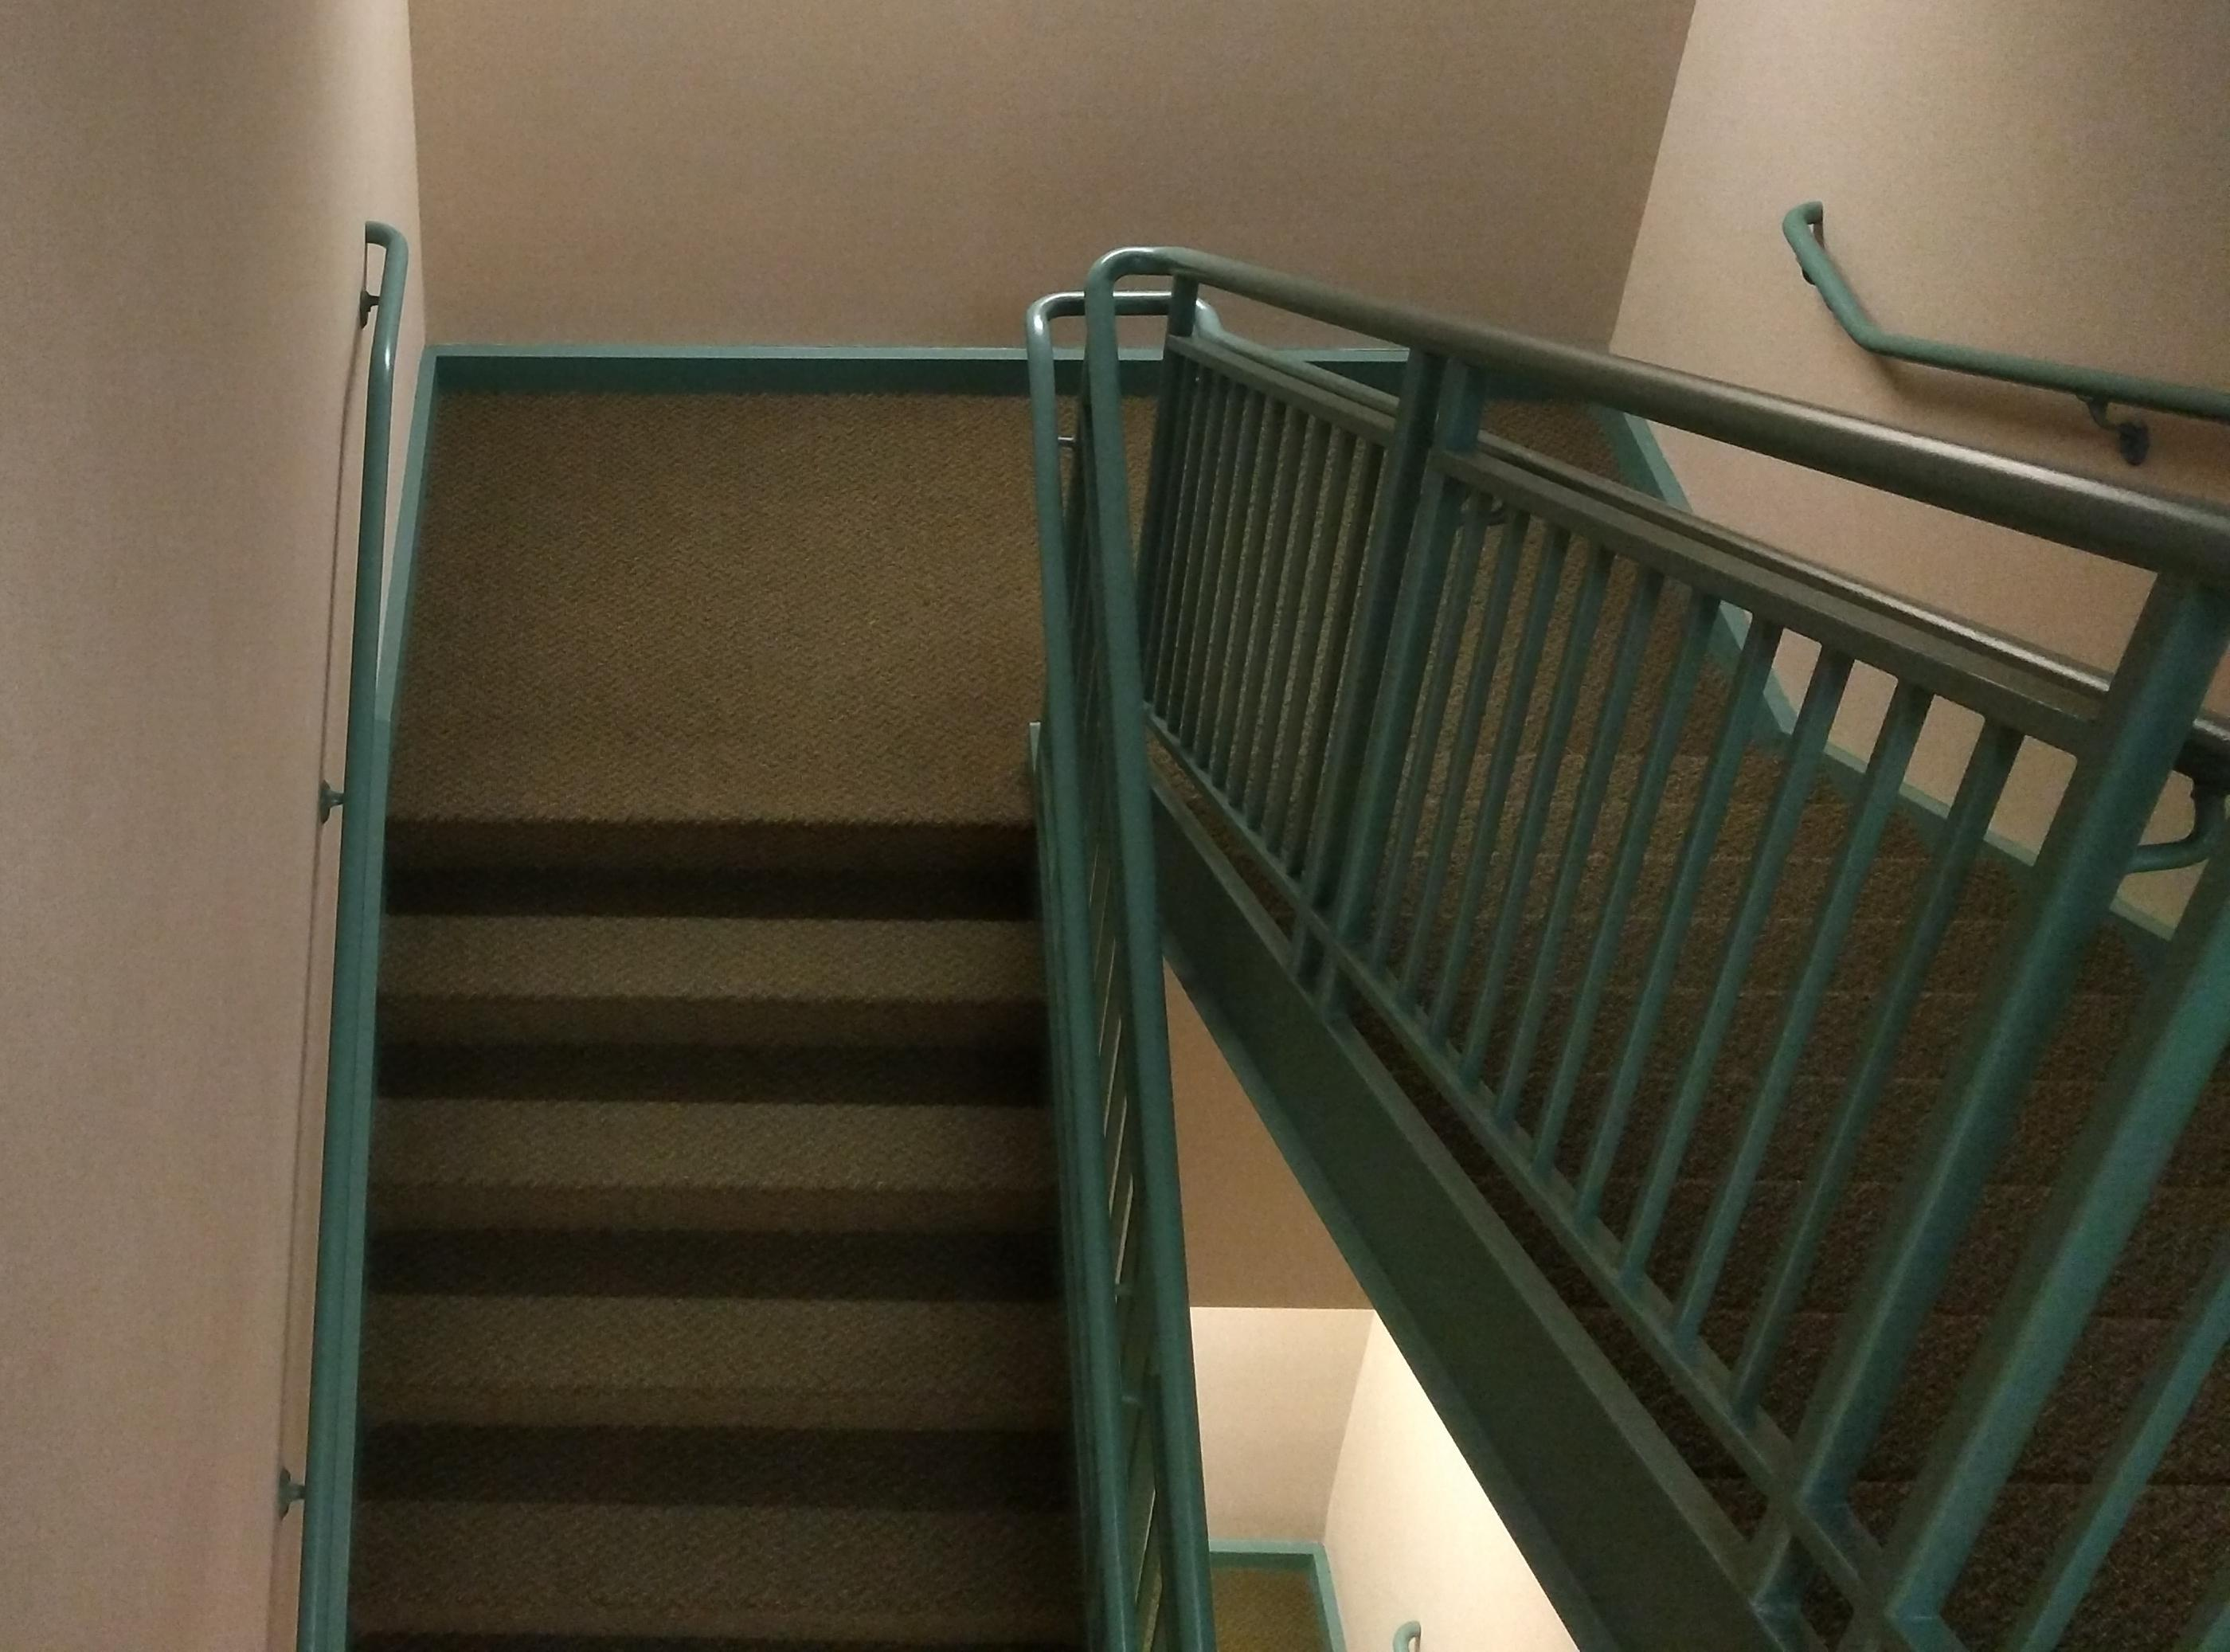stairs_up: (392, 788, 1059, 1647)
